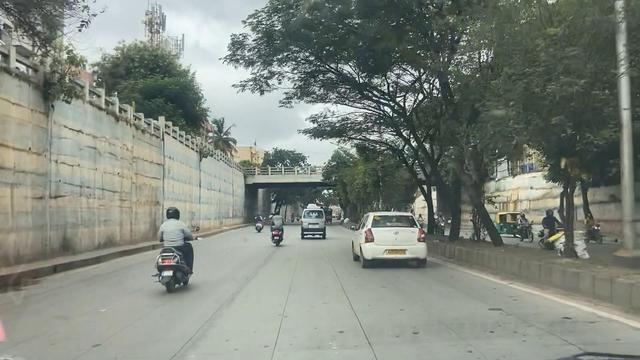LMV: (352, 203, 437, 278), (158, 204, 198, 293)
